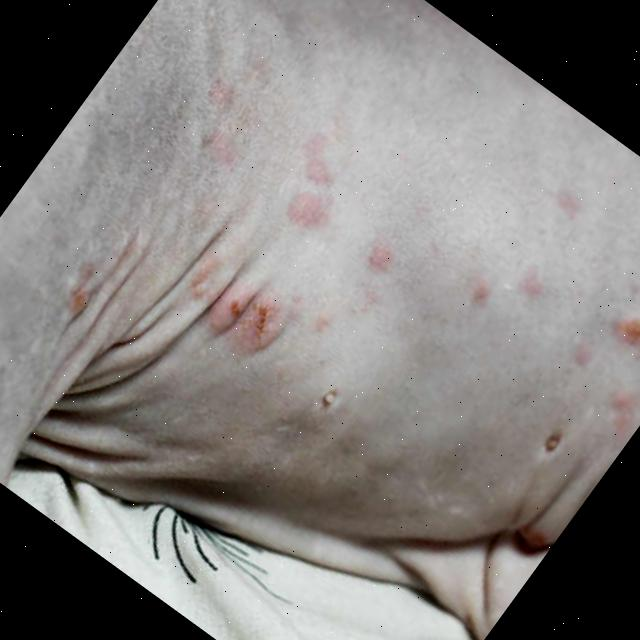cat-lump-and-bump: (156, 235, 316, 385), (264, 104, 378, 217), (254, 159, 359, 263), (513, 158, 614, 256), (336, 218, 424, 304), (170, 109, 258, 193), (569, 369, 640, 458), (494, 251, 576, 327), (39, 261, 117, 340), (288, 362, 364, 439), (512, 404, 584, 478), (579, 288, 640, 374), (543, 320, 614, 389), (286, 289, 354, 356), (449, 264, 513, 328)
